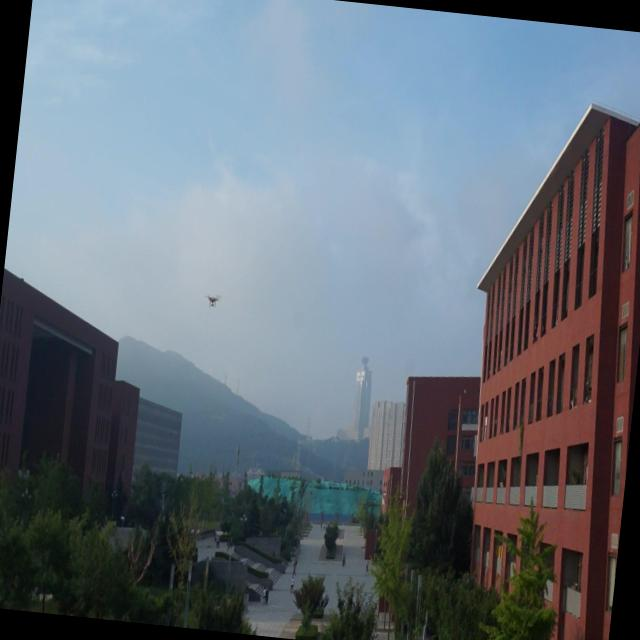drone: (203, 289, 220, 311)
